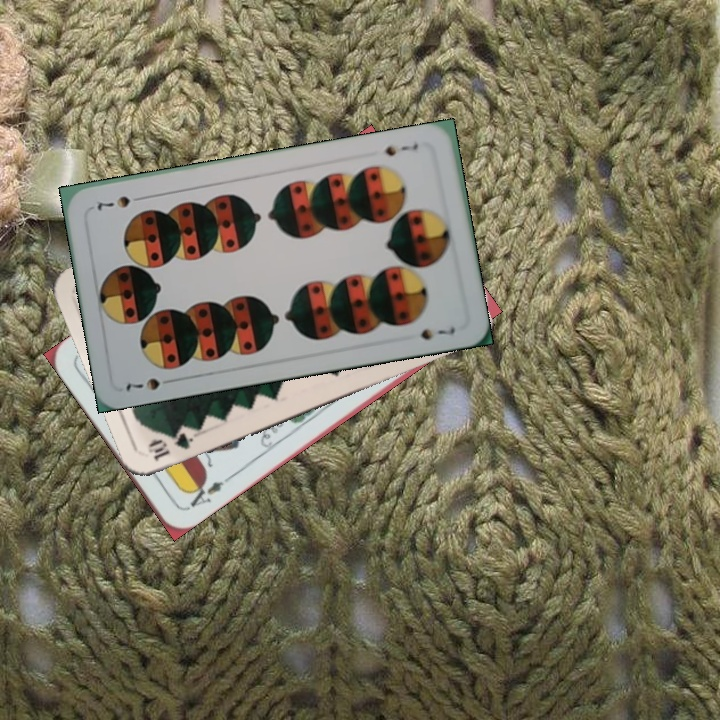EA: (181, 472, 233, 513)
G10: (143, 428, 200, 465)
S7: (121, 374, 178, 393), (380, 139, 421, 159)
